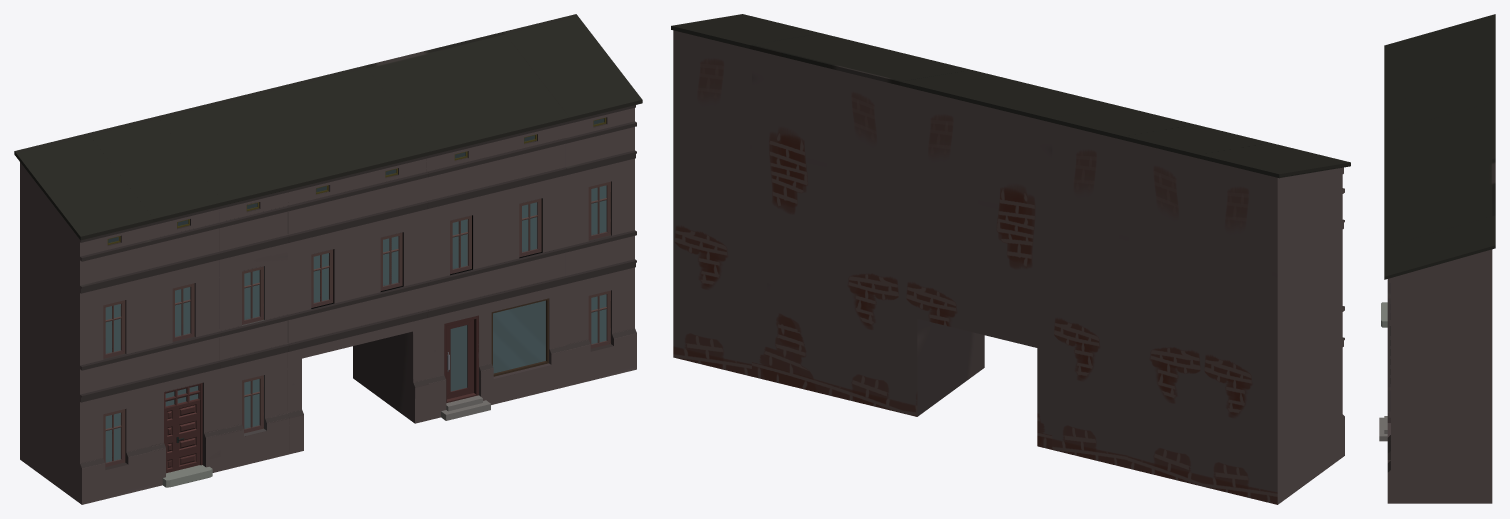
File: kamienica3-tunnel-2.fbx
The picture shows the model from 3 angles, left to right: view 1: azimuth 30°, elevation 25°; view 2: azimuth 150°, elevation 25°; view 3: azimuth 270°, elevation 25°; orthographic projection. The views are drawn at different scales.
Parts seen in each view (by area): view 1: kamienica3-abandoned-shop, kamienica3-abandoned-shop.001, kamienica3-abandoned-side-l, kamienica3-abandoned-side-r, kamienica3-abandoned-mid, kamienica3-abandoned-entry, k3-shop-decor1, k3-entry-decor1, k3-shop-decor1.001, k3-mid-decor1.002, k3-mid-decor3, k3-mid-decor1.001; view 2: kamienica3-abandoned-shop, kamienica3-abandoned-side-l, kamienica3-abandoned-shop.001, kamienica3-abandoned-side-r, kamienica3-abandoned-mid, kamienica3-abandoned-entry; view 3: kamienica3-abandoned-side-r, kamienica3-abandoned-shop, kamienica3-abandoned-shop.001, kamienica3-abandoned-entry, kamienica3-abandoned-side-l, kamienica3-abandoned-mid.
Boxes of the visible parts, x1,y1,x2,y2 form: kamienica3-abandoned-shop: [365, 32, 569, 420]; kamienica3-abandoned-shop.001: [226, 65, 430, 453]; kamienica3-abandoned-side-l: [14, 133, 153, 504]; kamienica3-abandoned-side-r: [504, 14, 642, 386]; kamienica3-abandoned-mid: [157, 99, 292, 470]; kamienica3-abandoned-entry: [87, 116, 222, 487]; k3-shop-decor1: [444, 134, 548, 402]; k3-entry-decor1: [164, 219, 202, 473]; k3-shop-decor1.001: [311, 168, 402, 307]; k3-mid-decor1.002: [103, 236, 125, 467]; k3-mid-decor3: [588, 117, 610, 348]; k3-mid-decor1.001: [242, 202, 263, 433]; kamienica3-abandoned-shop: [750, 33, 970, 413]; kamienica3-abandoned-side-l: [1200, 143, 1350, 504]; kamienica3-abandoned-shop.001: [900, 70, 1121, 449]; kamienica3-abandoned-side-r: [671, 14, 820, 376]; kamienica3-abandoned-mid: [1050, 106, 1196, 468]; kamienica3-abandoned-entry: [1125, 125, 1271, 486]; kamienica3-abandoned-side-r: [1384, 215, 1495, 503]; kamienica3-abandoned-shop: [1379, 158, 1495, 443]; kamienica3-abandoned-shop.001: [1384, 101, 1495, 189]; kamienica3-abandoned-entry: [1381, 44, 1495, 327]; kamienica3-abandoned-side-l: [1384, 14, 1495, 75]; kamienica3-abandoned-mid: [1384, 72, 1495, 132].
Size of the model in its own units: 1620 by 848 by 345.
